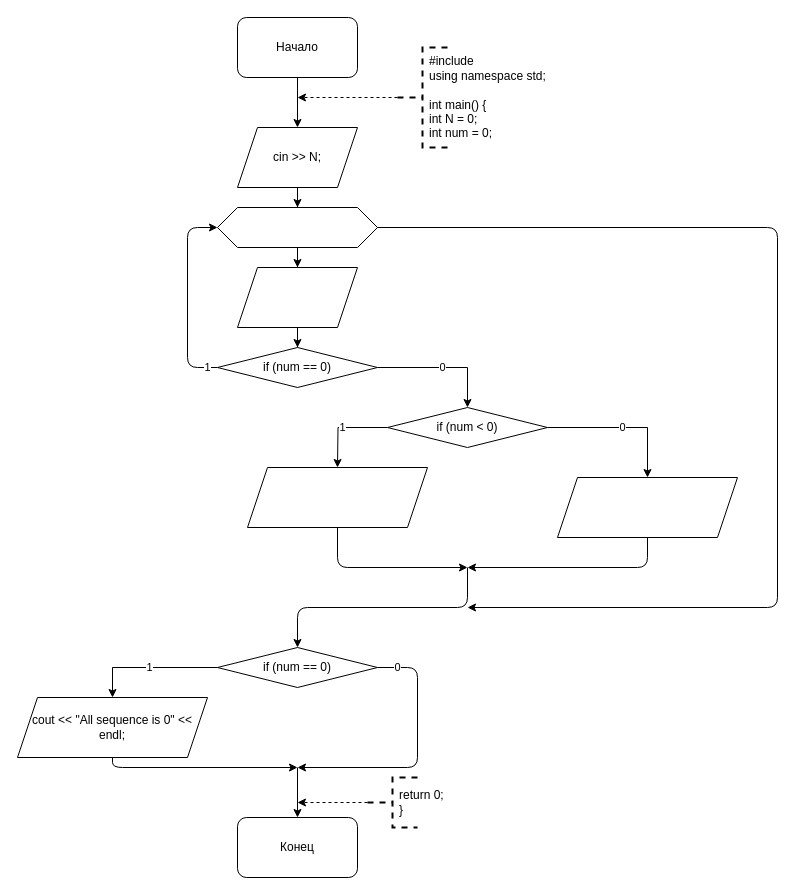
This 803x895 diagram has some shape labels left out. The shapes that lost their labels are listed below. From the top down, each one's centre as x and y in pixels, then its label:
(x=297, y=227): for (int i = 0; i < N; ++i)
(x=297, y=297): cin >> num;
(x=337, y=497): cout << "The first number is negative" << endl;
(x=647, y=507): cout << "The first number is positive" << endl;
